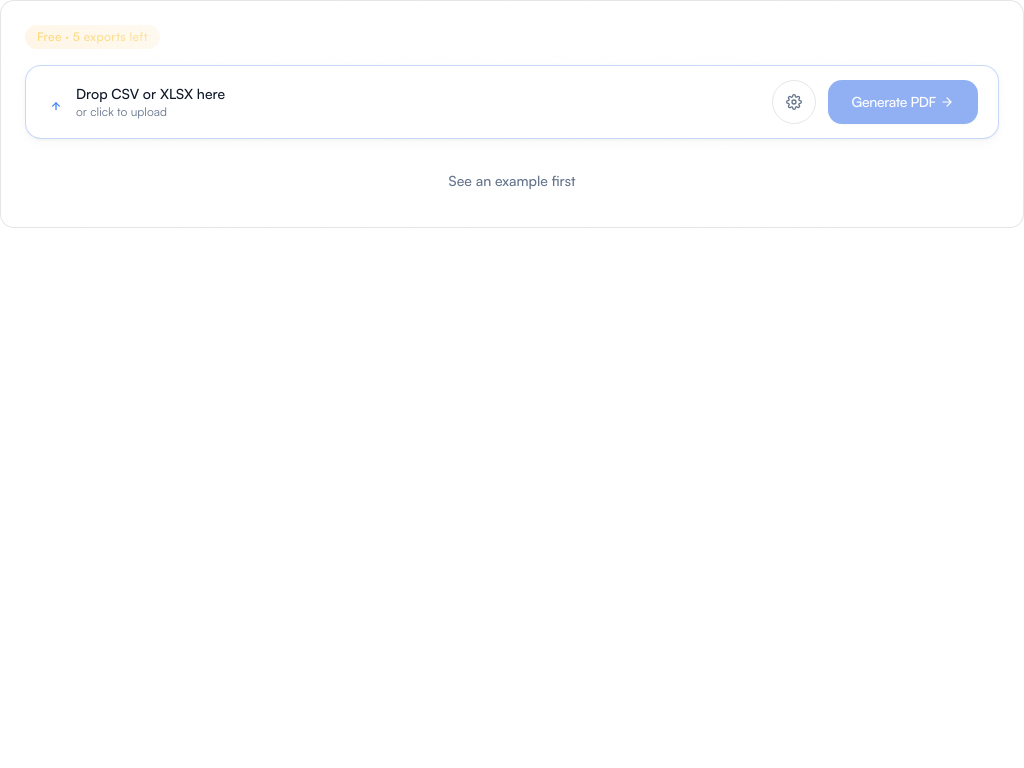
branding toggle defaults on and truncate defaults off
Click the button named "Advanced options": (794, 102) [772,80,816,124]
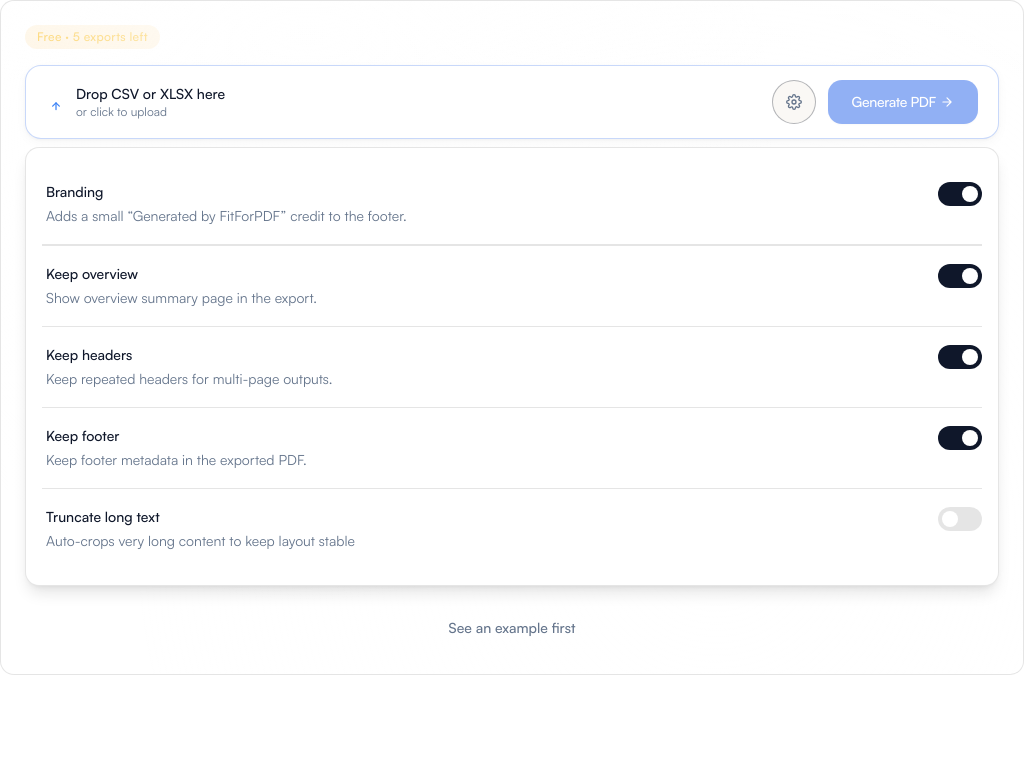
Result: the number of switches is 5 at [938,182,982,206]; [938,264,982,288]; [938,345,982,369]; [938,426,982,450]; [938,507,982,531]
